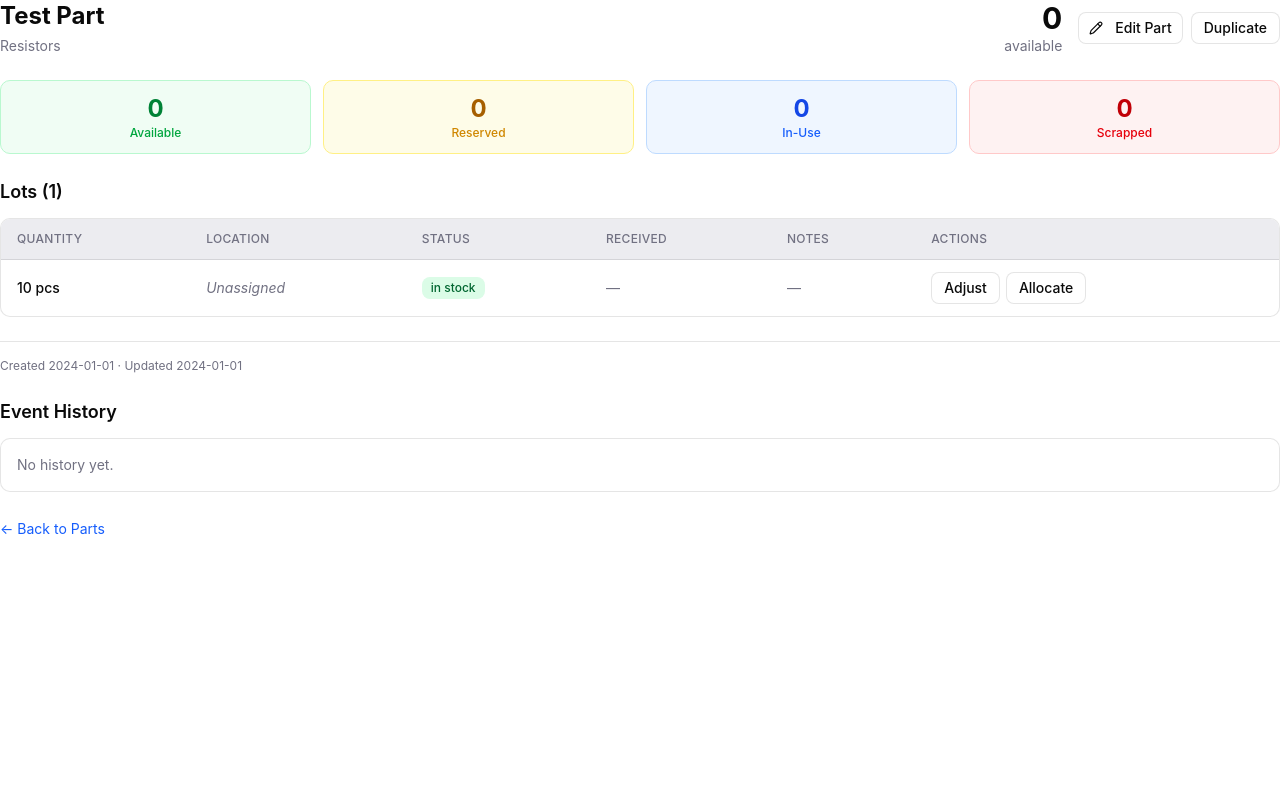
Test: PartDetailClient — AdjustLotDialog behavior › shows a validation error when decimal consume value is entered
Click the button "Adjust".
click(966, 288)  # box [931,272,1000,304]
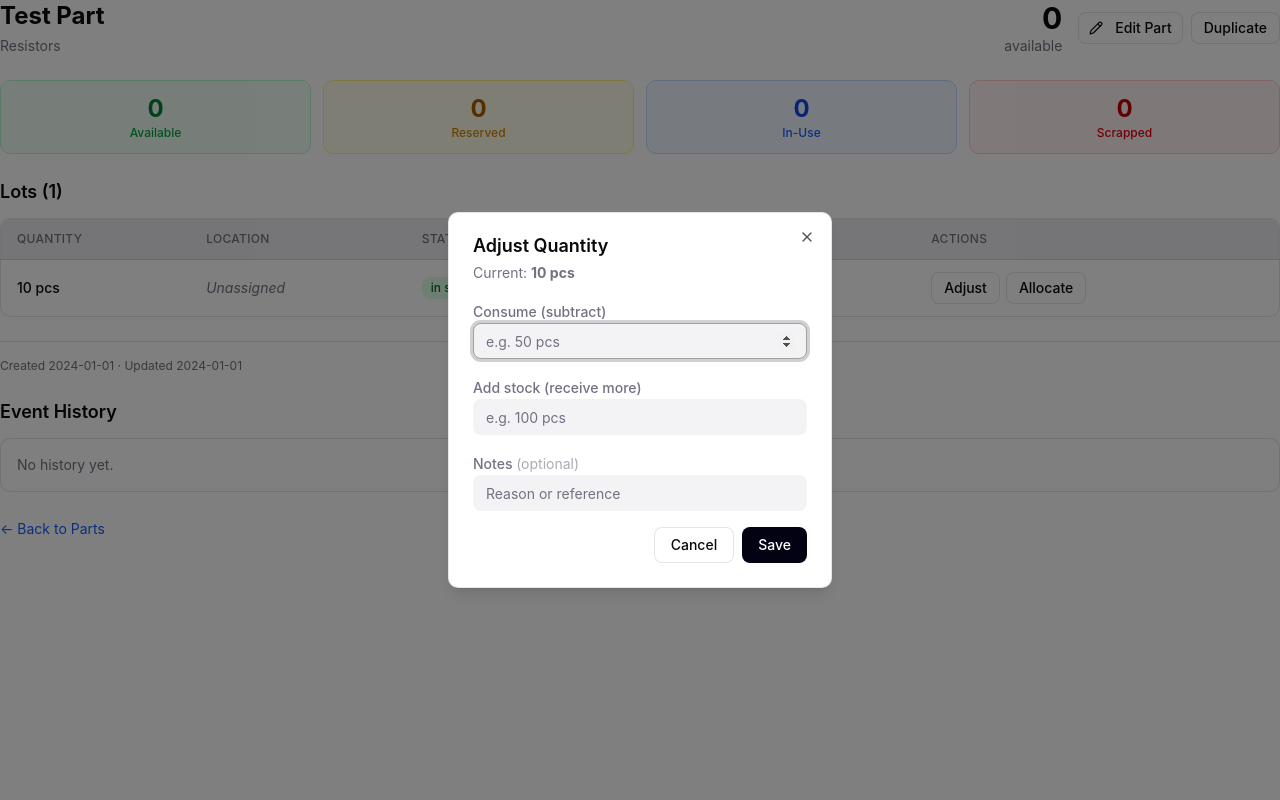
Result: the dialog is shown at [448,212,832,588]
Type "1.5" into the number field labelled "Consume (subtract)".
click(640, 341); type("1.5")  # box [473,323,807,359]
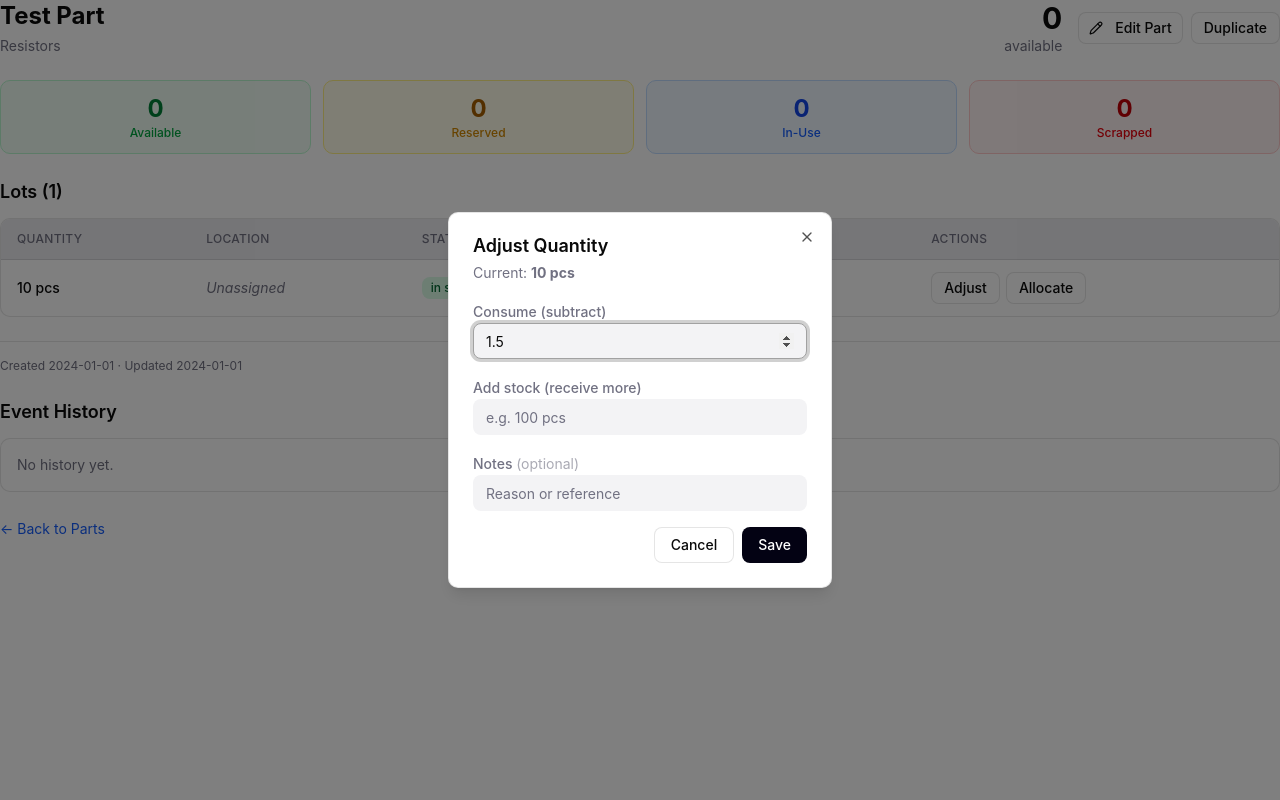
Submit the form "Save", box [473,299,807,563]
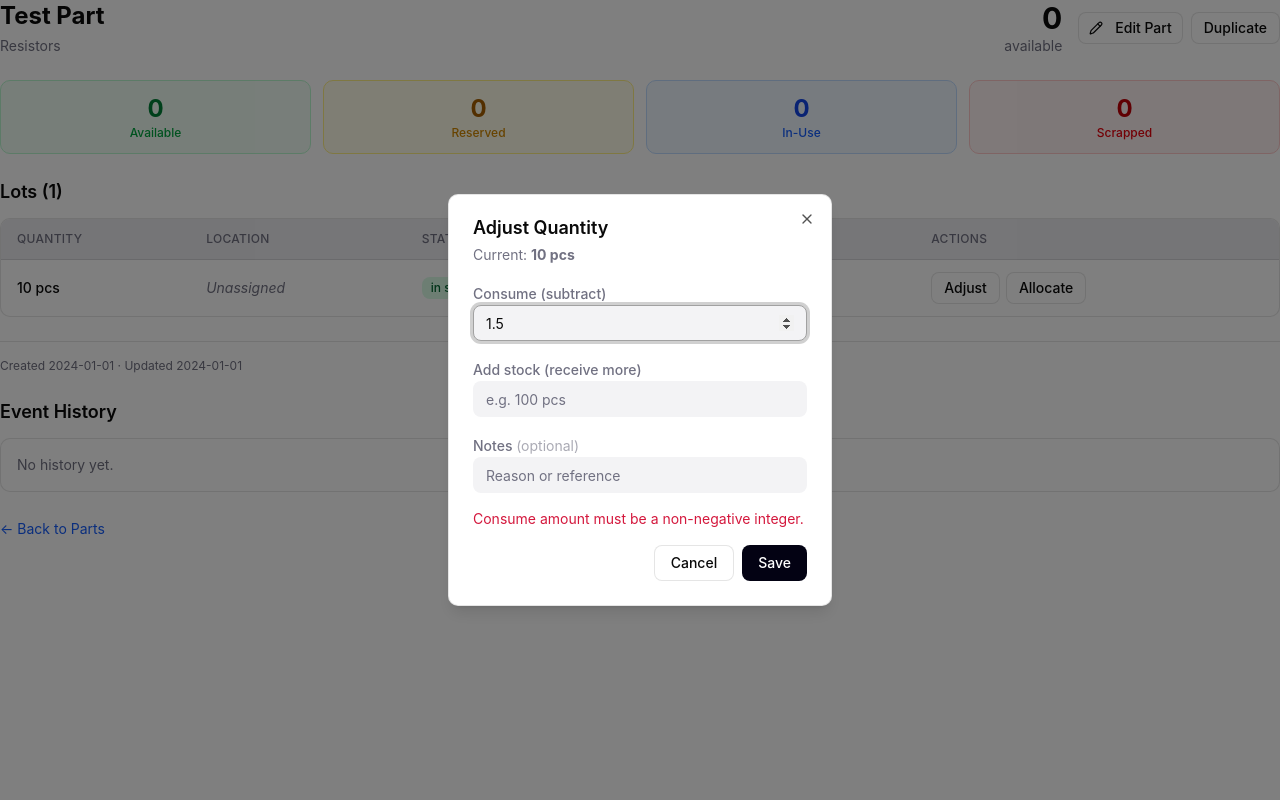
Result: the text "Consume amount must be a non-negative integer." is shown at [473,509,807,529]
